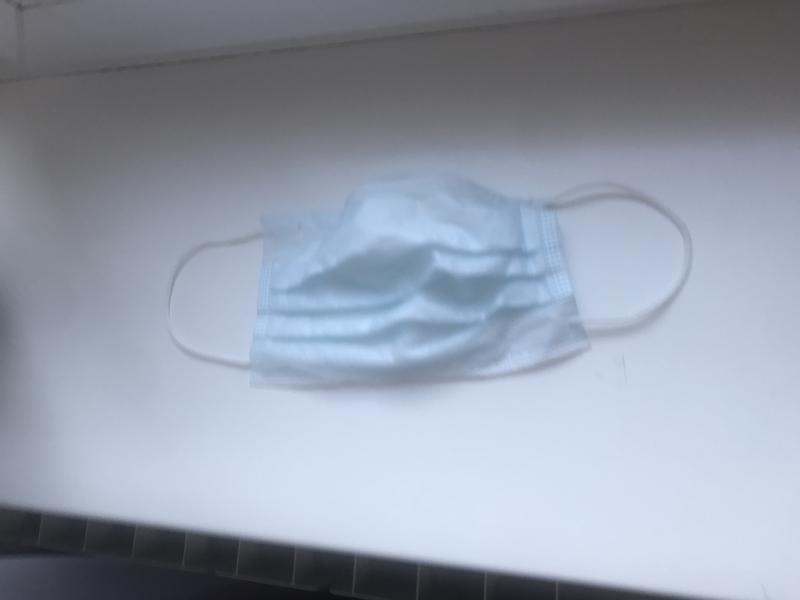medical_mask: (164, 182, 692, 390)
